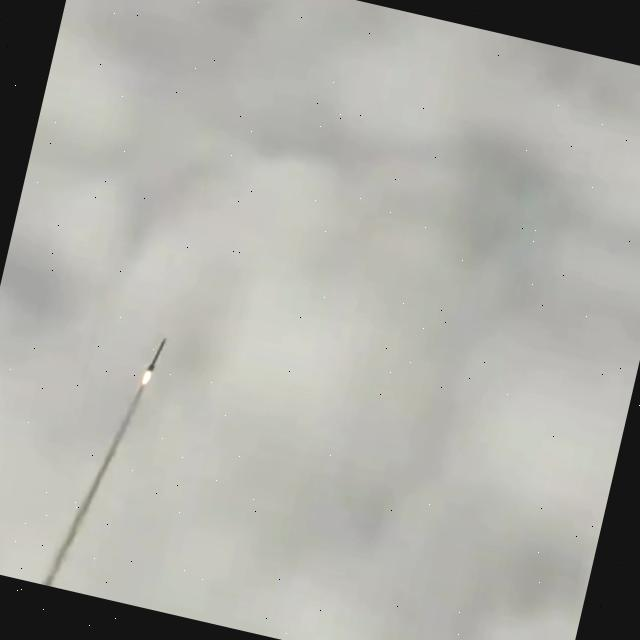smoke_trail_with_rocket: (38, 338, 165, 587)
